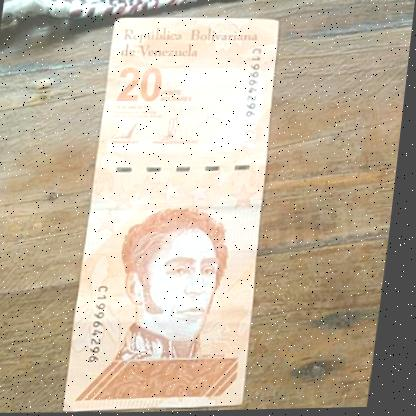twenty-front-vef: (71, 12, 292, 414)
